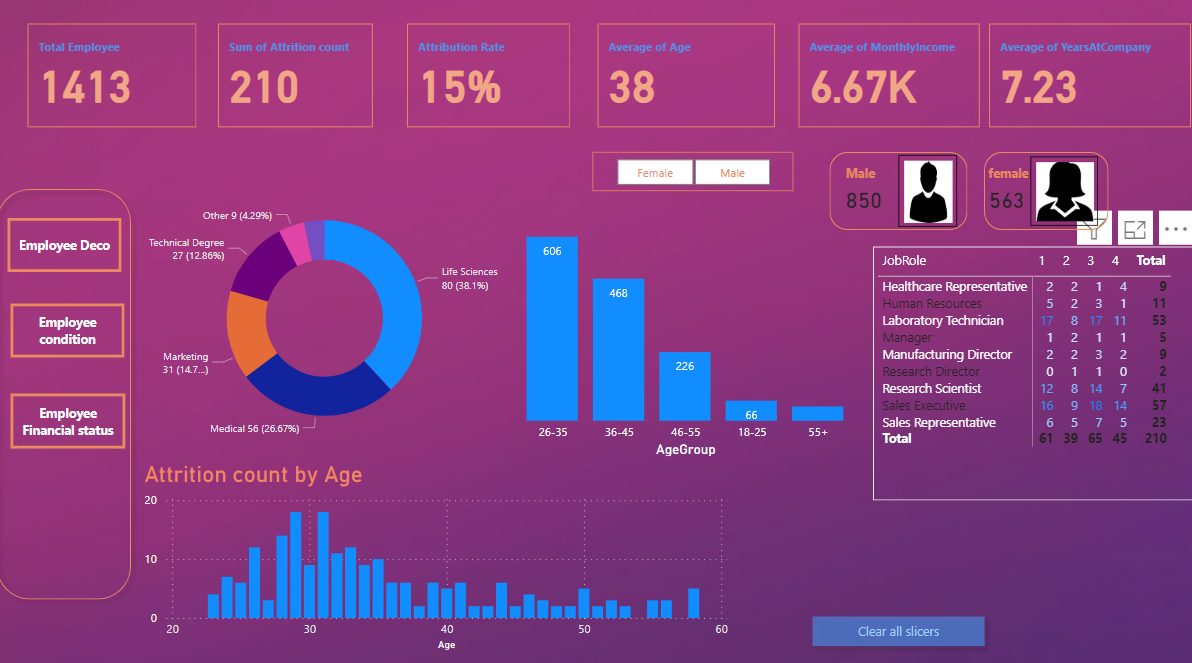

This screenshot's page, from the dashboard's own definition file:
{"tool":"powerbi","page":{"name":"emp info","canvas":[1280,720],"ordinal":0},"visuals":[{"type":"cardVisual","fields":{"Data":["Sum(HR_Analytics.EmployeeCount)"]},"box":[36.6,30.2,189.1,120.8],"z":0},{"type":"cardVisual","fields":{"Data":["HR_Analytics.Attribution Rate"]},"box":[438,30.2,183.1,120.8],"z":1000},{"type":"cardVisual","fields":{"Data":["Sum(HR_Analytics.Attrition count)"]},"box":[238.4,30.2,174.8,120.8],"z":2000},{"type":"cardVisual","fields":{"Data":["Avg(HR_Analytics.Age)"]},"box":[640,30.2,198.2,120.8],"z":3000},{"type":"cardVisual","fields":{"Data":["Avg(HR_Analytics.YearsAtCompany)"]},"box":[1055.3,30.2,224.7,120.8],"z":4000},{"type":"cardVisual","fields":{"Data":["Avg(HR_Analytics.MonthlyIncome)"]},"box":[853.3,30.2,202,120.8],"z":5000},{"type":"donutChart","title":"Attrition count by EducationField","fields":{"Y":["Sum(HR_Analytics.Attrition count)"],"Category":["HR_Analytics.EducationField"]},"box":[144.6,201.9,422.8,290.9],"z":6000},{"type":"clusteredColumnChart","title":"Attrition count by EducationField","fields":{"Category":["HR_Analytics.AgeGroup"],"Y":["CountNonNull(HR_Analytics.AgeGroup)"]},"box":[537.2,222.5,403.7,276.6],"z":7000},{"type":"pivotTable","fields":{"Rows":["HR_Analytics.JobRole"],"Columns":["HR_Analytics.JobSatisfaction"],"Values":["Sum(HR_Analytics.Attrition count)"]},"box":[937.7,271.8,341.7,268.6],"z":8000},{"type":"clusteredColumnChart","title":"Attrition count by Age","fields":{"Category":["HR_Analytics.Age"],"Y":["Sum(HR_Analytics.Attrition count)"]},"box":[160,498.3,628.3,205],"z":9000},{"type":"shape","box":[891.7,171.7,146.2,82.6],"z":10000},{"type":"shape","box":[1055.4,171.7,131.9,82.6],"z":11000},{"type":"cardVisual","fields":{"Data":["HR_Analytics.female"]},"box":[1037.9,162.1,133.5,79.5],"z":12000},{"type":"cardVisual","fields":{"Data":["HR_Analytics.Male"]},"box":[886.9,162.1,133.5,79.5],"z":13000},{"type":"slicer","fields":{"Values":["HR_Analytics.Gender"]},"box":[640.5,171.7,213,41.3],"z":14000},{"type":"image","box":[964.8,174.8,62,76.3],"z":15000},{"type":"image","box":[1104.6,176.4,71.5,73.1],"z":16000},{"type":"actionButton","box":[864.6,654.8,200.3,49.3],"z":17000},{"type":"shape","box":[0,201.9,160.5,453],"z":18000},{"type":"actionButton","box":[20.7,241.6,120.8,57.2],"z":19000},{"type":"actionButton","box":[23.8,332.2,120.8,57.2],"z":20000},{"type":"actionButton","box":[23.3,428.3,121.7,58.3],"z":21000}]}

Visuals, with their boxes in screenshot pixels (x1, y1, x2, y2), scaled from the page's 1280x720 canvas onto the 1192x663 screenshot:
cardVisual - Sum(HR_Analytics.EmployeeCount): (34,28,210,139)
cardVisual - HR_Analytics.Attribution Rate: (408,28,578,139)
cardVisual - Sum(HR_Analytics.Attrition count): (222,28,385,139)
cardVisual - Avg(HR_Analytics.Age): (596,28,781,139)
cardVisual - Avg(HR_Analytics.YearsAtCompany): (983,28,1191,139)
cardVisual - Avg(HR_Analytics.MonthlyIncome): (795,28,983,139)
"Attrition count by EducationField" donutChart: (135,186,528,454)
"Attrition count by EducationField" clusteredColumnChart: (500,205,876,460)
pivotTable - HR_Analytics.JobRole x HR_Analytics.JobSatisfaction: (873,250,1191,498)
"Attrition count by Age" clusteredColumnChart: (149,459,734,648)
shape: (830,158,967,234)
shape: (983,158,1106,234)
cardVisual - HR_Analytics.female: (967,149,1091,222)
cardVisual - HR_Analytics.Male: (826,149,950,222)
slicer - HR_Analytics.Gender: (596,158,795,196)
image: (898,161,956,231)
image: (1029,162,1095,230)
actionButton: (805,603,992,648)
shape: (0,186,149,603)
actionButton: (19,222,132,275)
actionButton: (22,306,135,359)
actionButton: (22,394,135,448)
